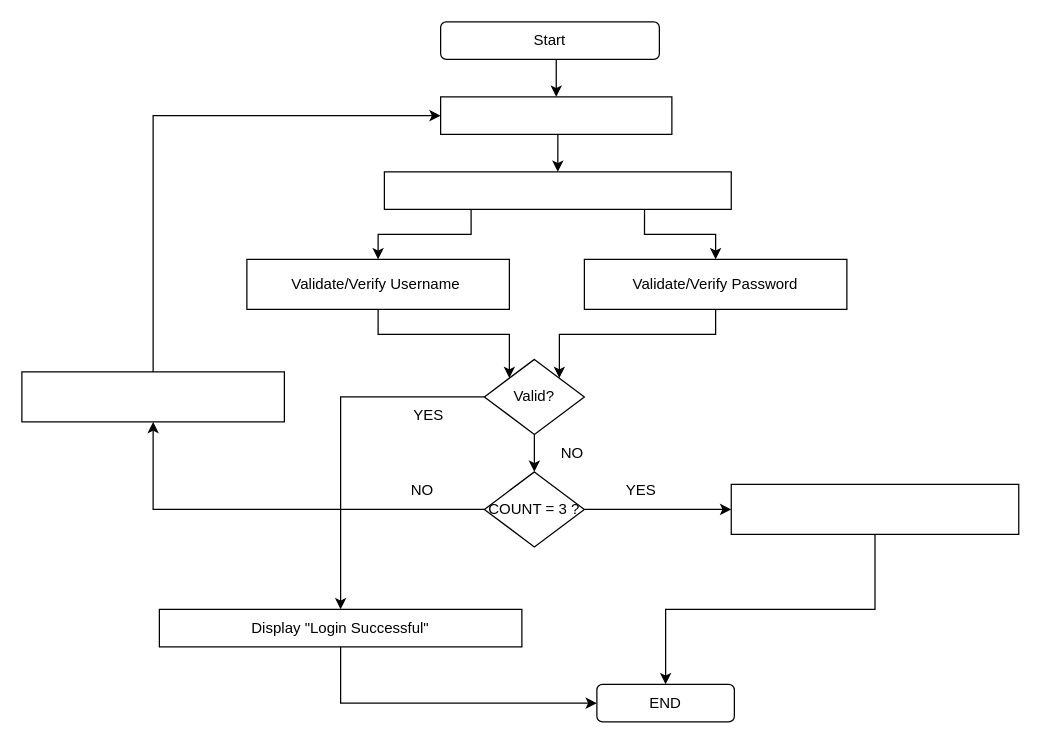
This 1041x744 diagram has some shape labels left out. The centre of each missing label's shape, as x and y in pixels:
"Failure/ All 3 Attempts Done" goes at (x=874, y=508).
"SET Count = count + 1" goes at (x=152, y=396).
"SET initial Count to 0/ COUNT = 0" goes at (x=555, y=115).
"Taking INPUT as Username and Password" goes at (x=557, y=190).
